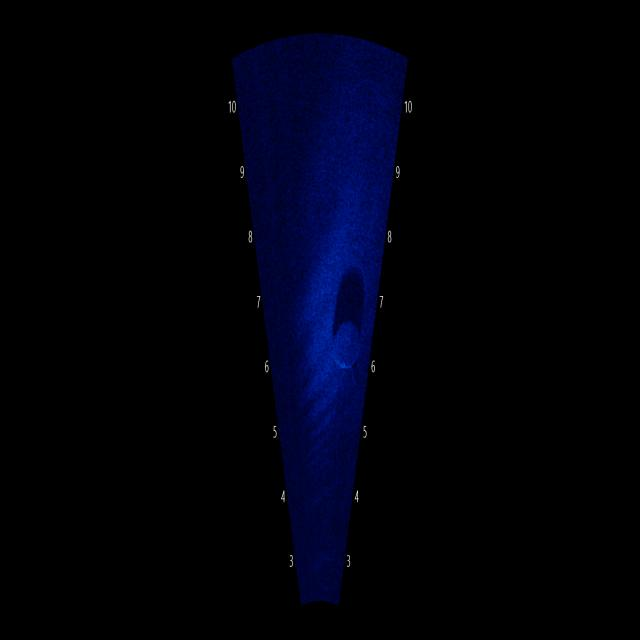circle: (325, 296, 373, 384)
